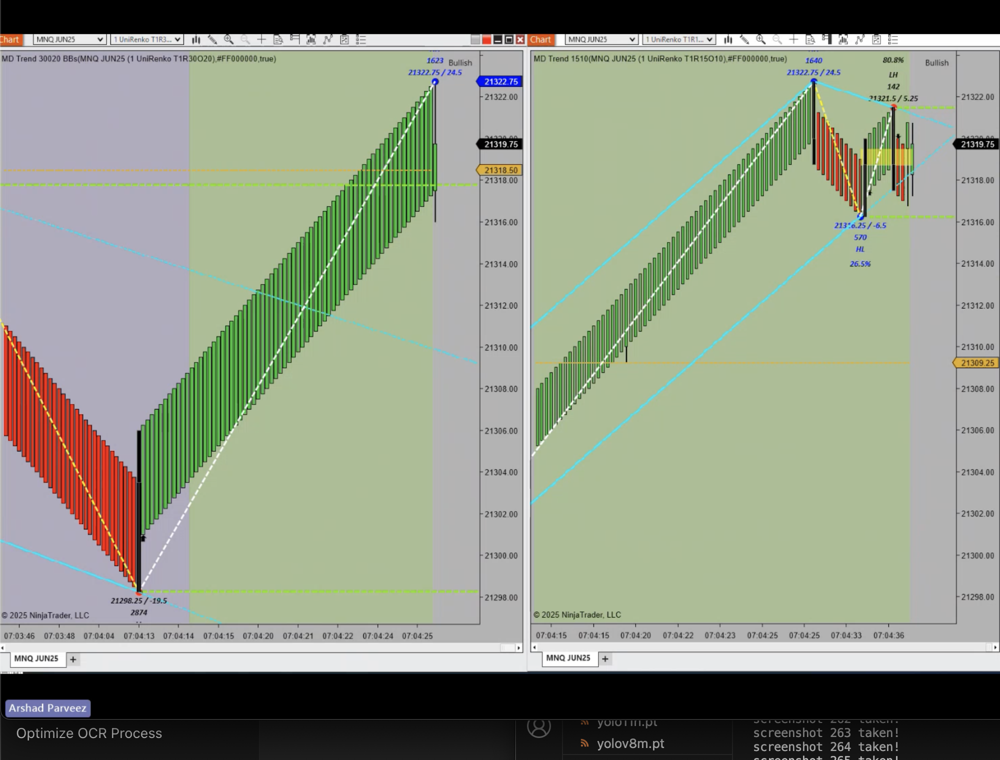HL: (851, 242, 875, 260)
LH: (883, 66, 906, 82)
